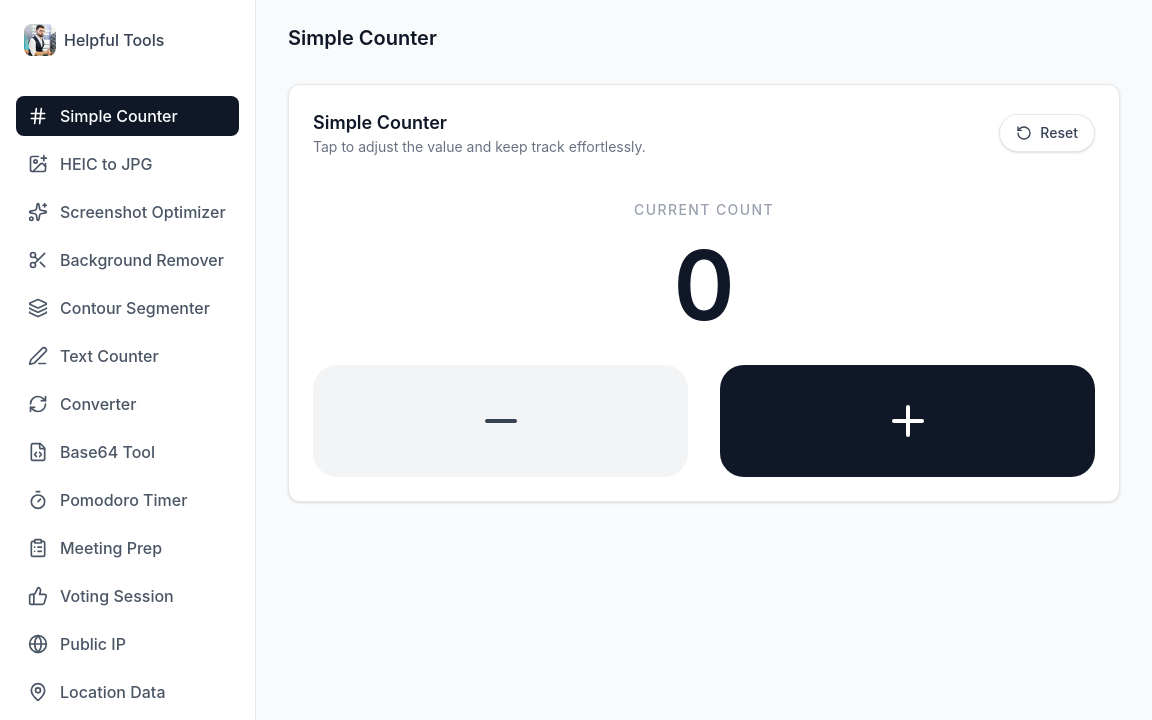
Scenario: App › renders Location Data Visualizer when selecting Location Data
Step 1. Click the button "Location Data" → (128, 692), box [16,672,239,712]
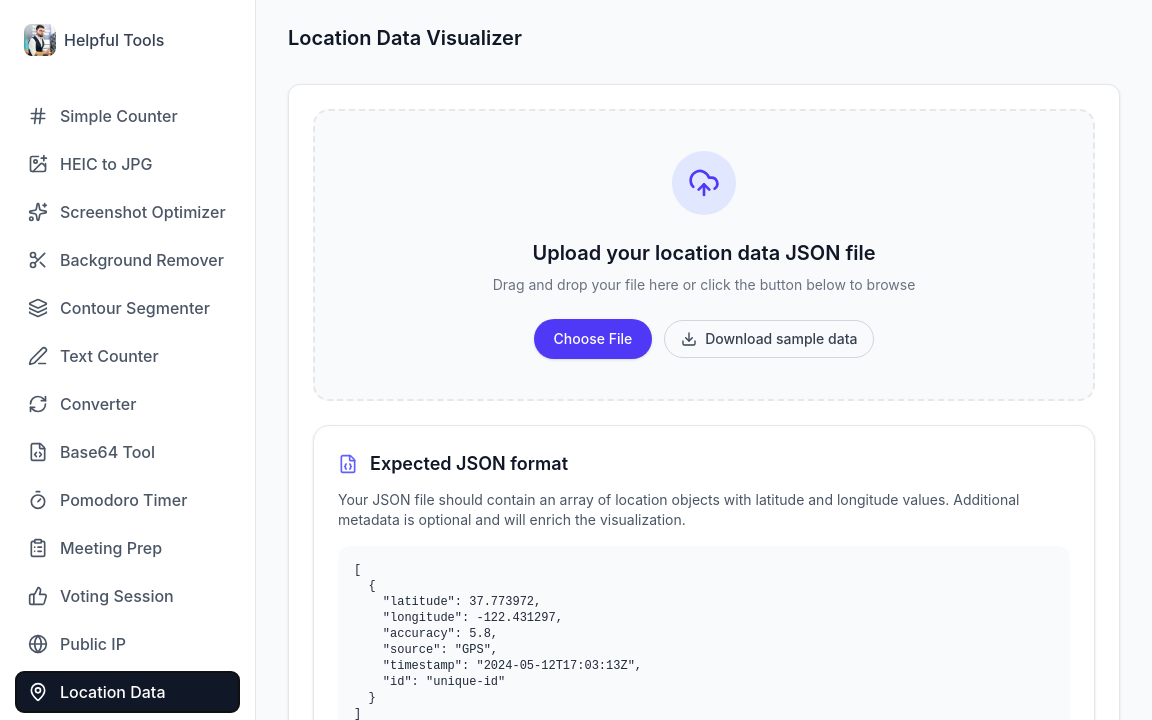
Check: the heading "Location Data Visualizer" is shown, box [288,24,522,52]
Check: the heading "Upload your location data JSON file" is shown, box [532,239,876,267]
